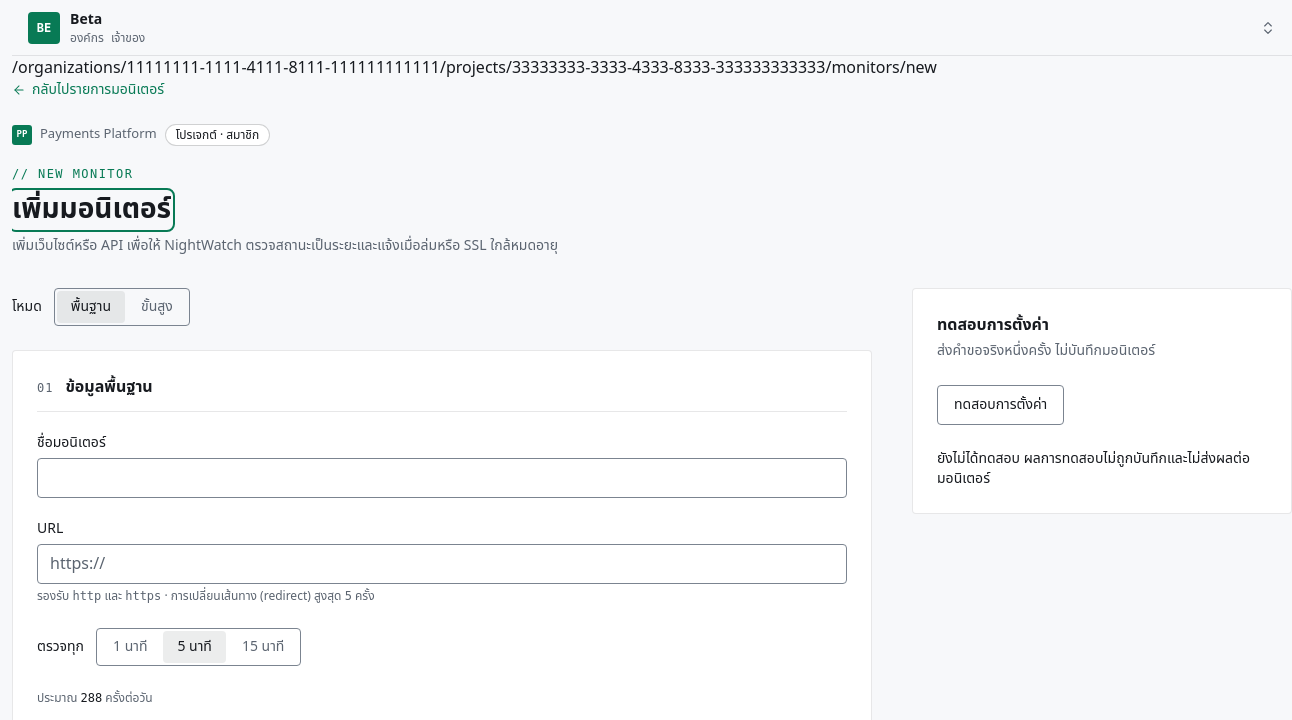
a route Organization that is not the server-active one › still leaves for another Organization than the one the URL names
Step 1. Type "typed" into the field with test id "monitor-form-name" → x=442, y=478, box 37,458 -> 847,498
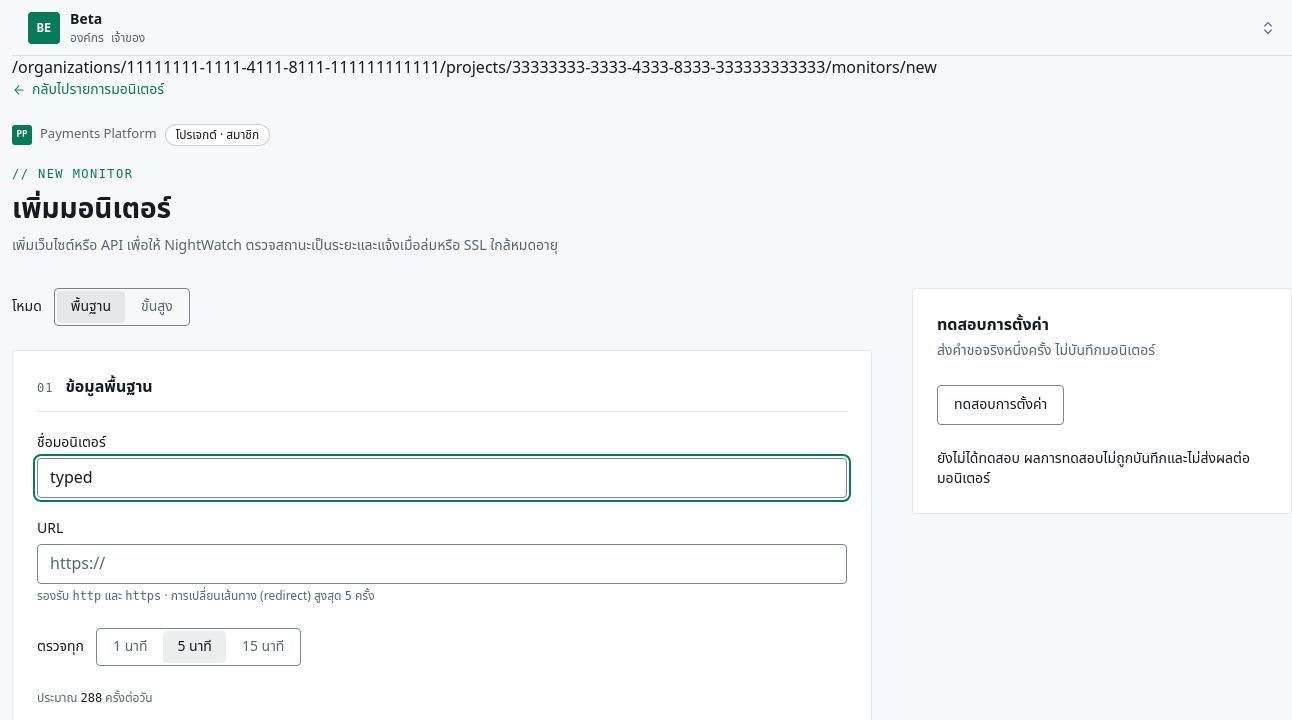
Step 2. Click the button with test id "shell-organization-switch" → x=44, y=28, box 20,8 -> 1284,48
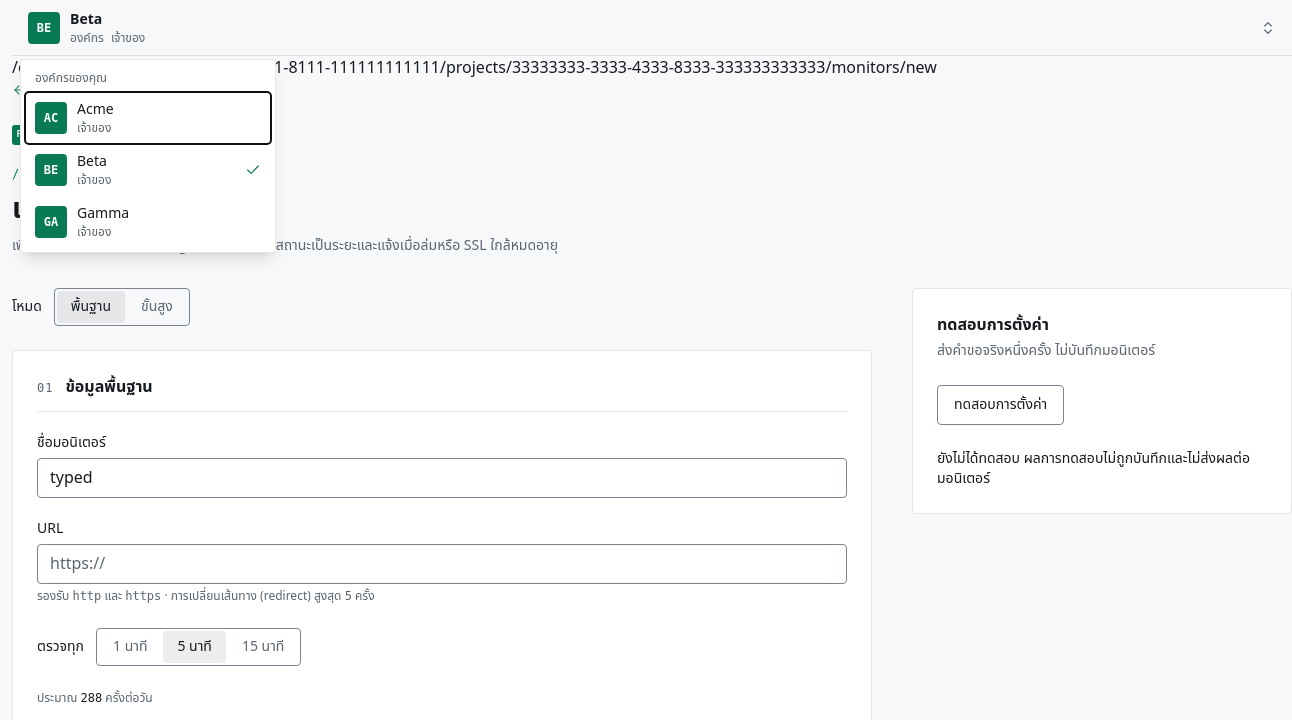
Step 3. Click the menu item "GA Gamma เจ้าของ" → x=148, y=222, box 25,196 -> 271,248
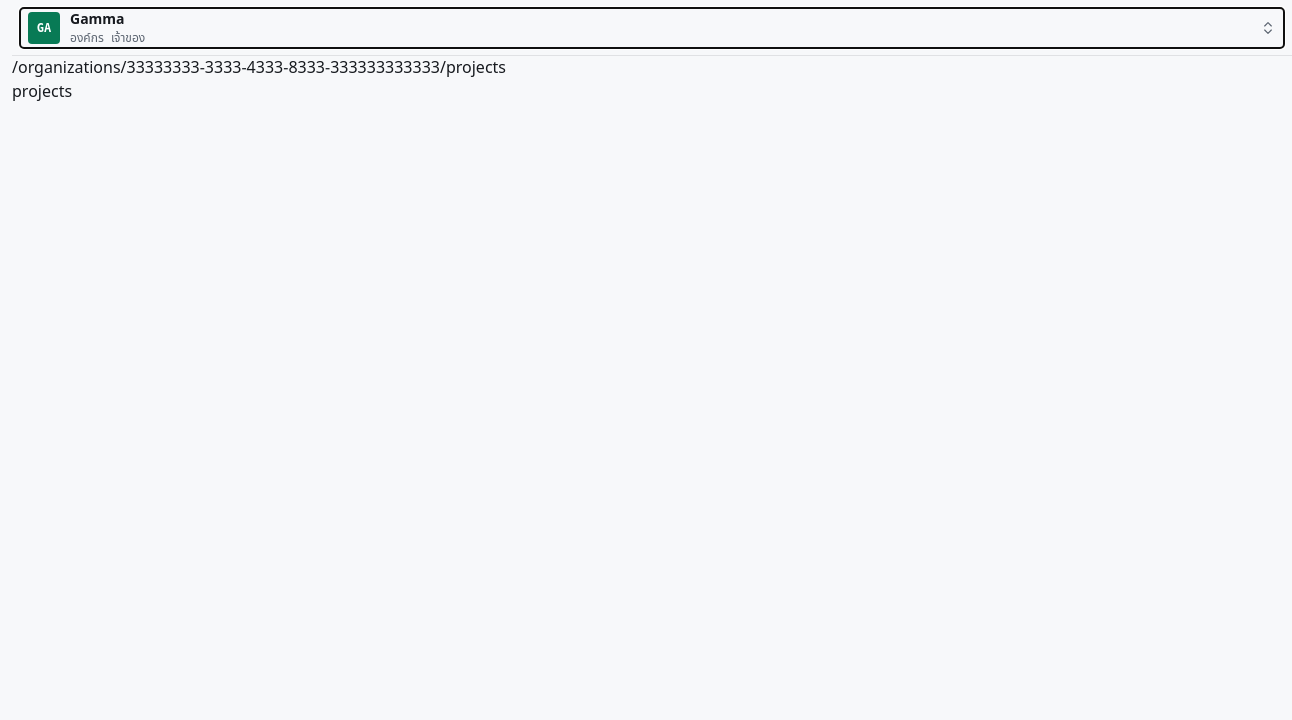
Expected: the field with test id "monitor-form-name" is gone
